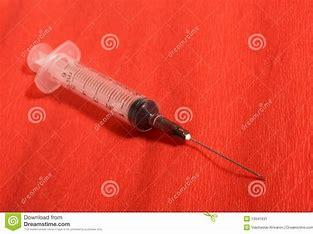Syringe: (22, 32, 268, 184)
